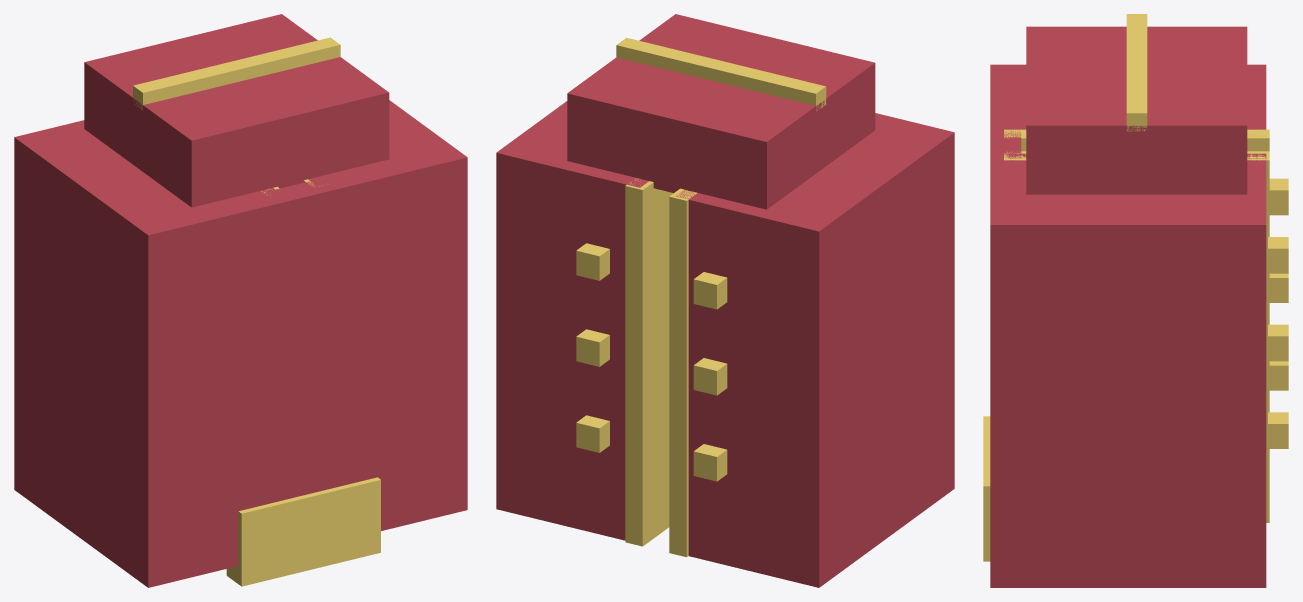
Rendered from capitao_vermelho_tronco.glb.
The picture shows the model from 3 angles, left to right: view 1: azimuth 30°, elevation 25°; view 2: azimuth 150°, elevation 25°; view 3: azimuth 270°, elevation 25°; orthographic projection. The views are drawn at different scales.
Visible parts, largest first — view 1: capitao_vermelho_tronco; view 2: capitao_vermelho_tronco; view 3: capitao_vermelho_tronco.
Boxes of the visible parts, box(x1,y1,x2,y2) form: capitao_vermelho_tronco: box(14, 14, 467, 587); capitao_vermelho_tronco: box(496, 14, 954, 587); capitao_vermelho_tronco: box(983, 14, 1288, 587).
Size of the model in its own units: 0.55 by 0.74 by 0.4425.
